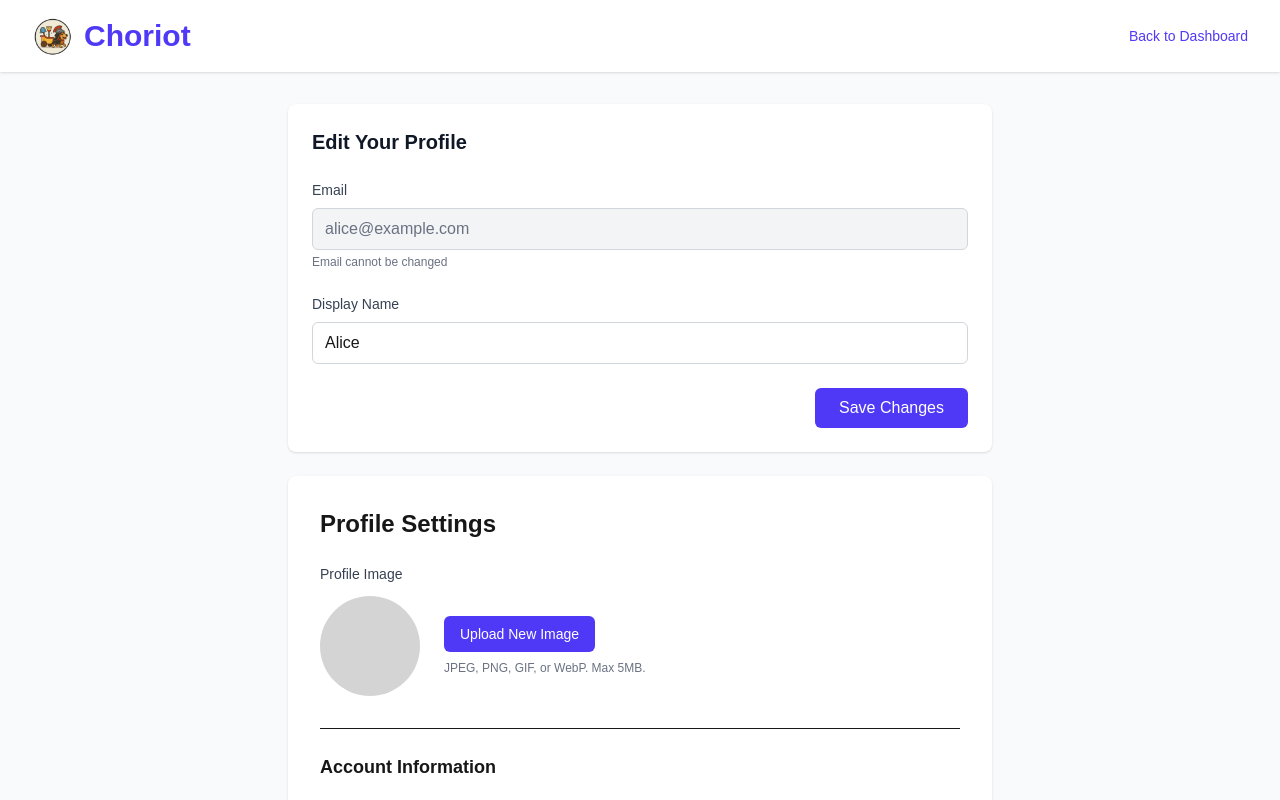
Test case: ProfileClient › should show generic error message when no specific error provided
The image size is (1280, 800).
Click the button "Save Changes".
click(892, 408)  # box [815, 388, 968, 428]
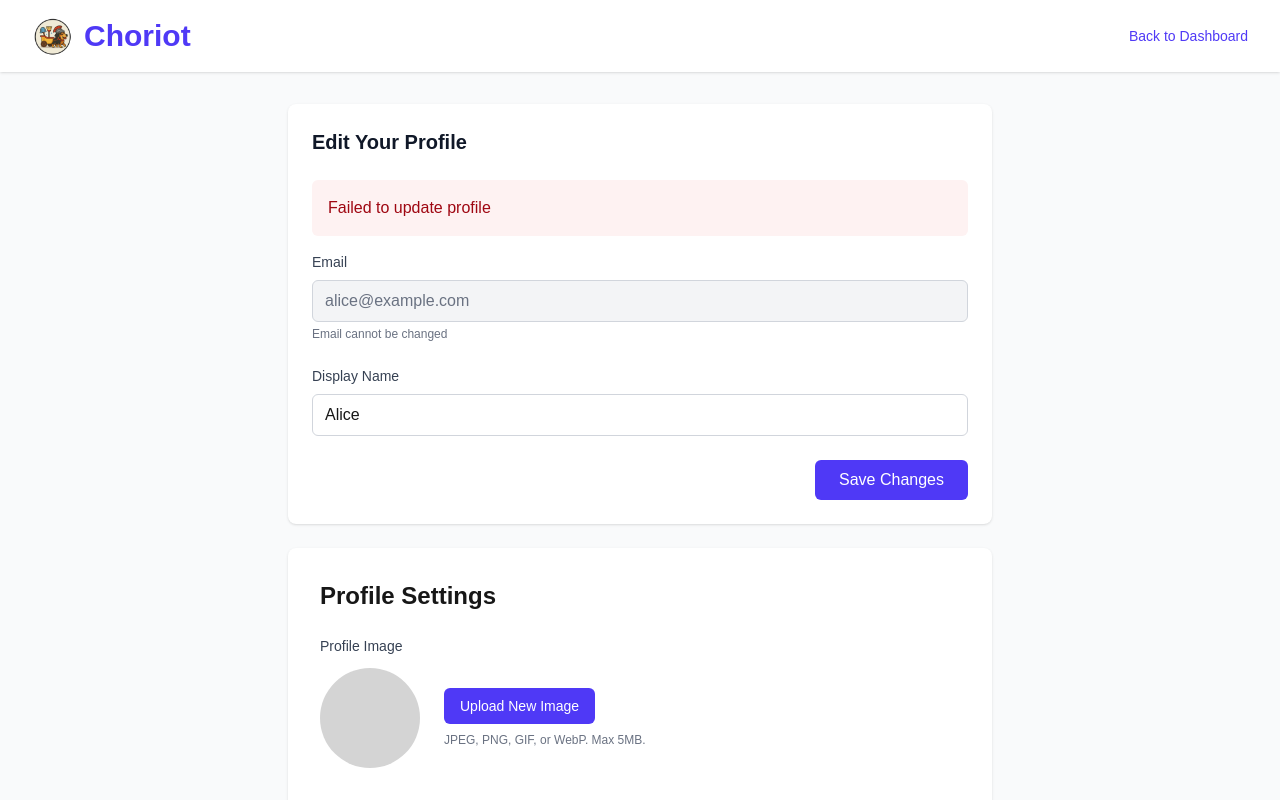
Result: the text "Failed to update profile" is shown at [312, 180, 968, 236]
